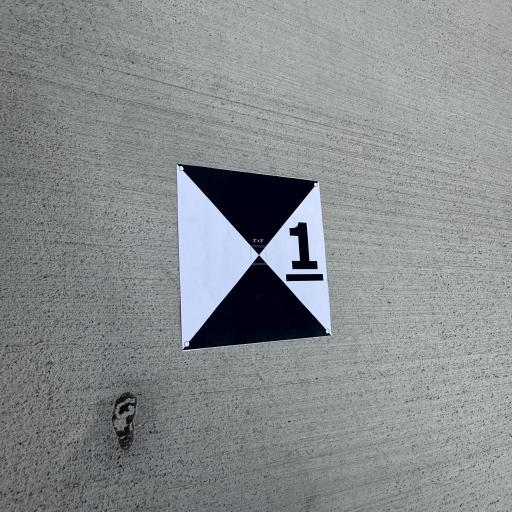target1: (158, 149, 344, 352)
